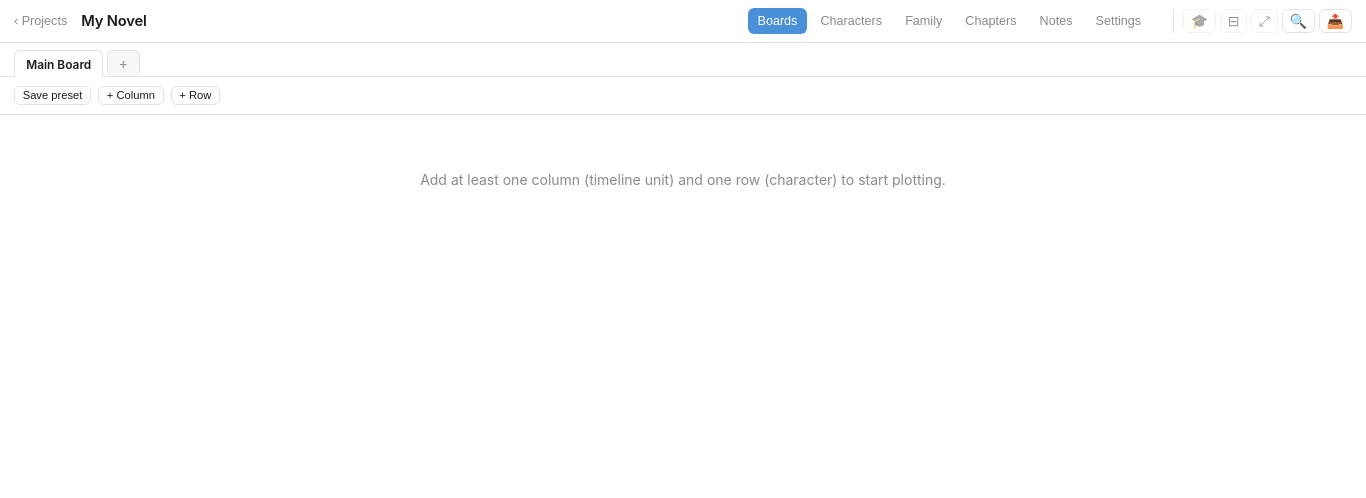
it: the Family tab › offers to create the first tree on a board that has none
Click the button "Family" at (924, 21), box [895,8,952,34]
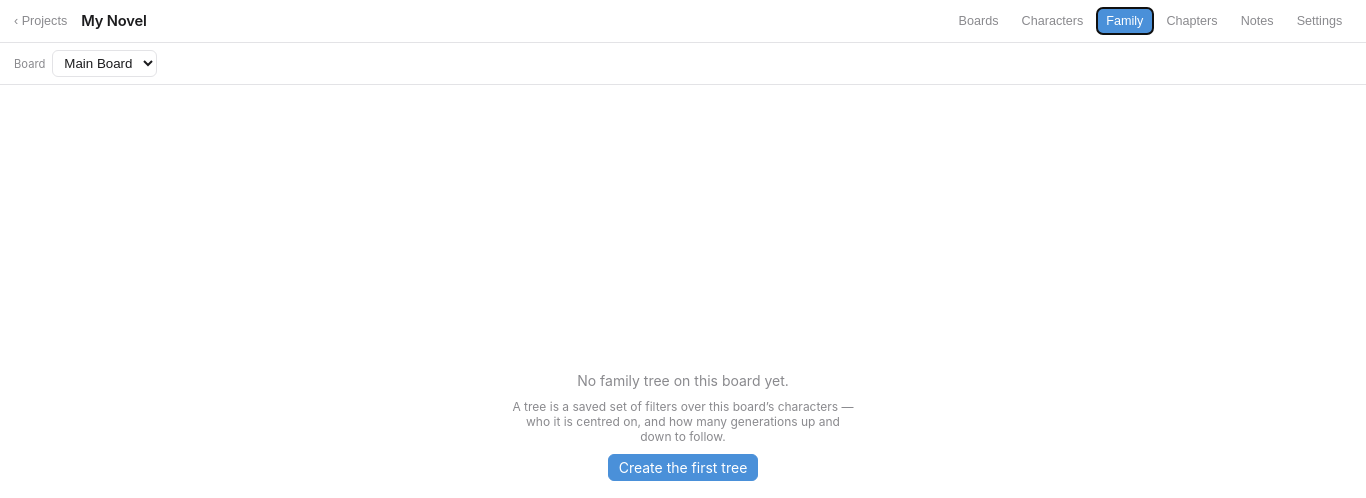
Result: the text "No family tree on this board yet." is shown at [577,372,789,389]
Result: the button "Create the first tree" is shown at [608,454,758,481]
